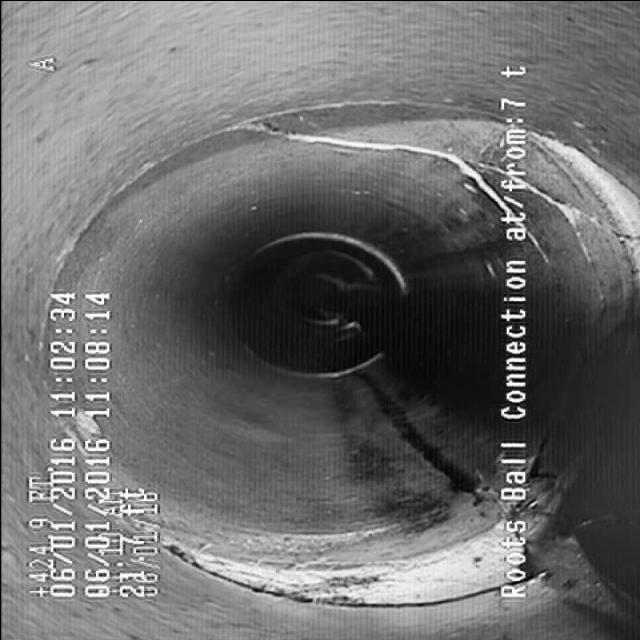Fracture: (230, 111, 490, 182)
